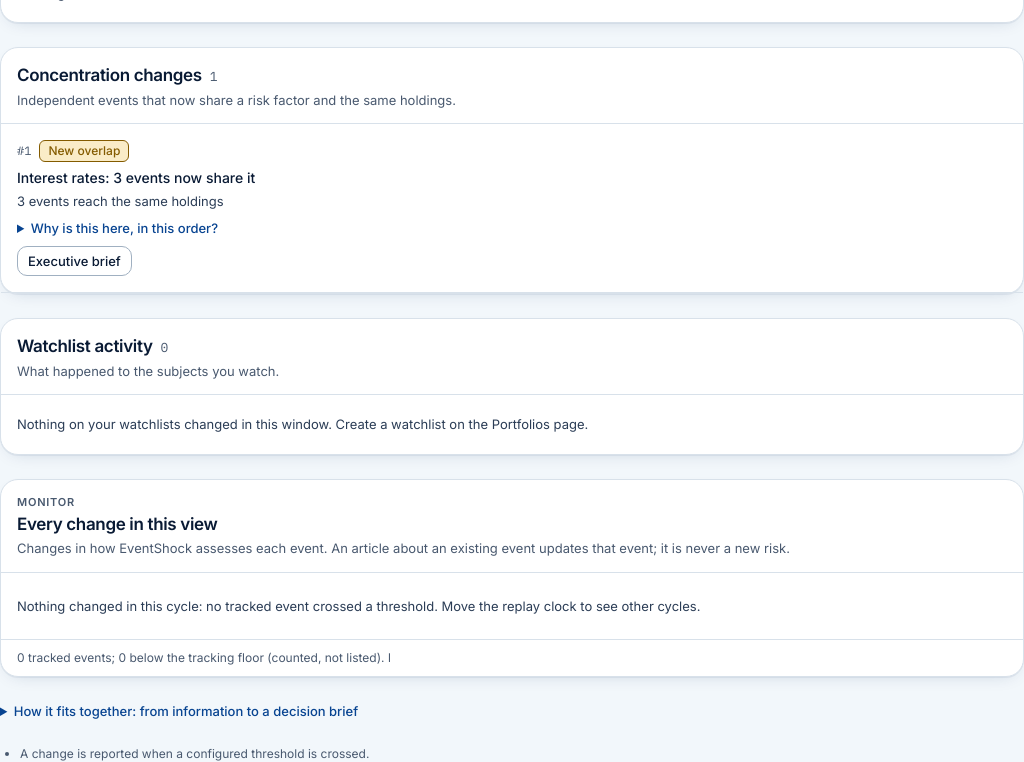
Test: TodayPage › walks the product story from information to the decision brief
(page scrolled)
Click the heading "How it fits together: from information to a decision brief": (179, 711) [0, 701, 358, 722]
(page scrolled)
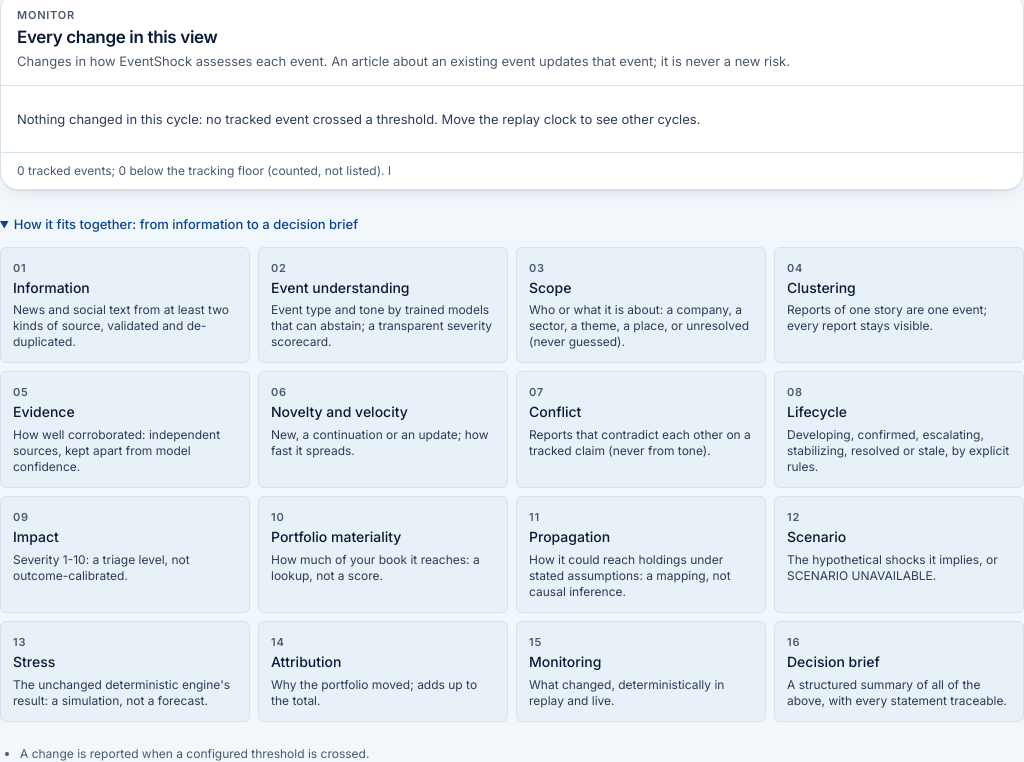
Result: the text with class "font-medium" reads "Information" at [13, 279, 90, 296]
Result: the text with class "font-medium" reads "Decision brief" at [787, 653, 880, 670]
